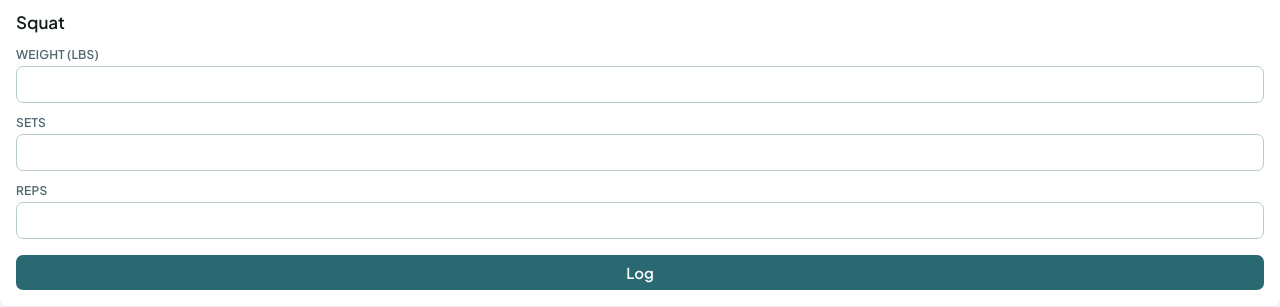
ExerciseCard › shows loading state while mutation is pending
Type "100" into the number field labelled "Weight (lbs)".
click(640, 84); type("100")  # box [16,66,1264,103]
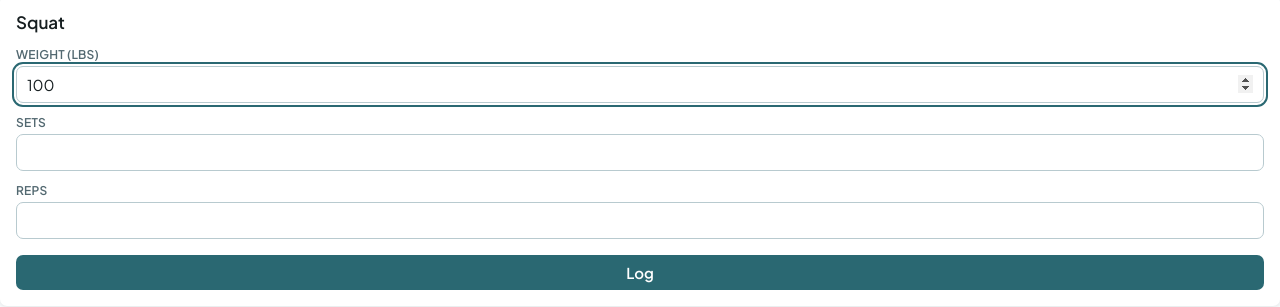
Type "3" into the number field labelled "Sets".
click(640, 152); type("3")  # box [16,134,1264,171]
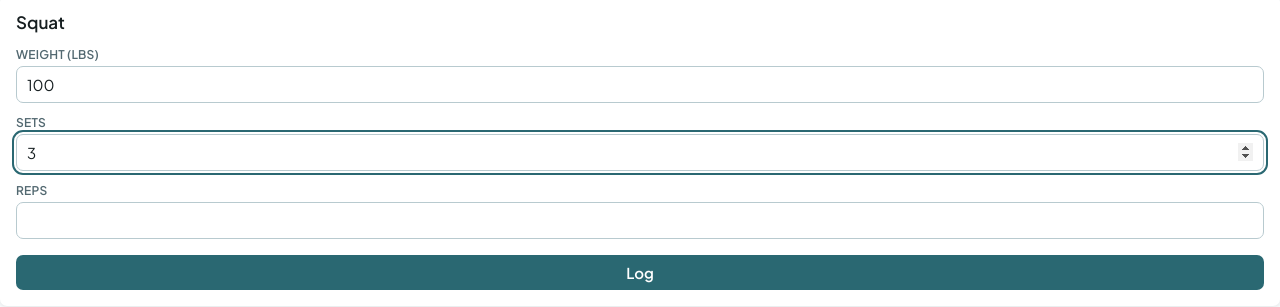
Type "5" into the number field labelled "Reps".
click(640, 220); type("5")  # box [16,202,1264,239]
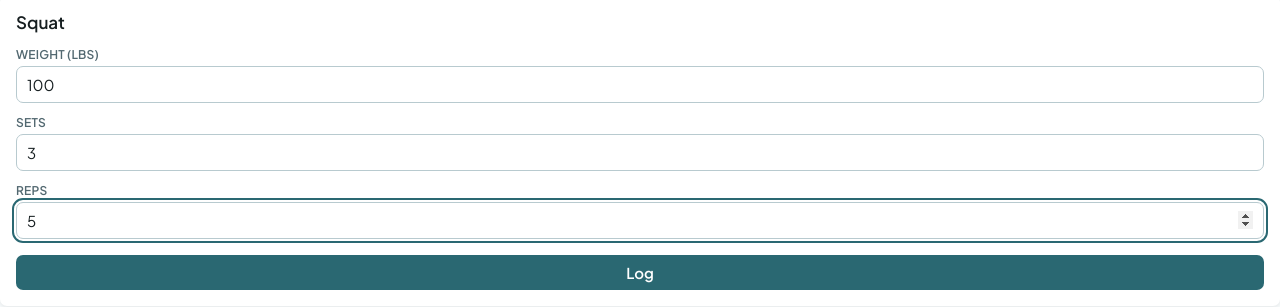
Click the button "Log".
click(640, 272)  # box [16,255,1264,290]
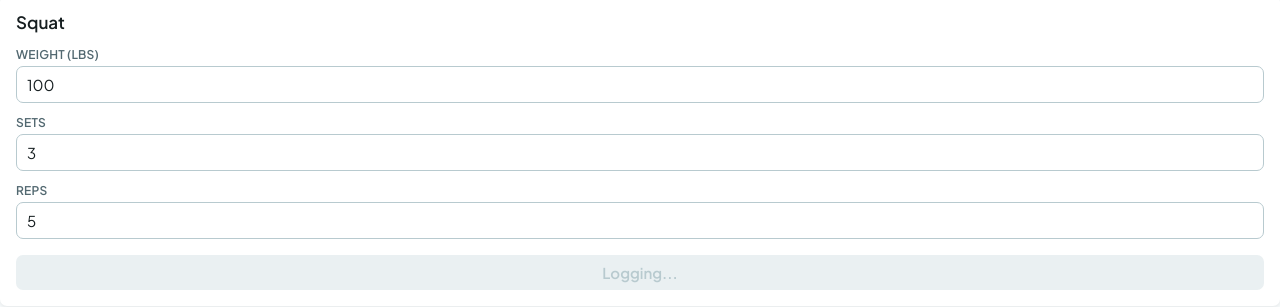
Expected: the button "Logging..." is disabled, [16,255,1264,290]
